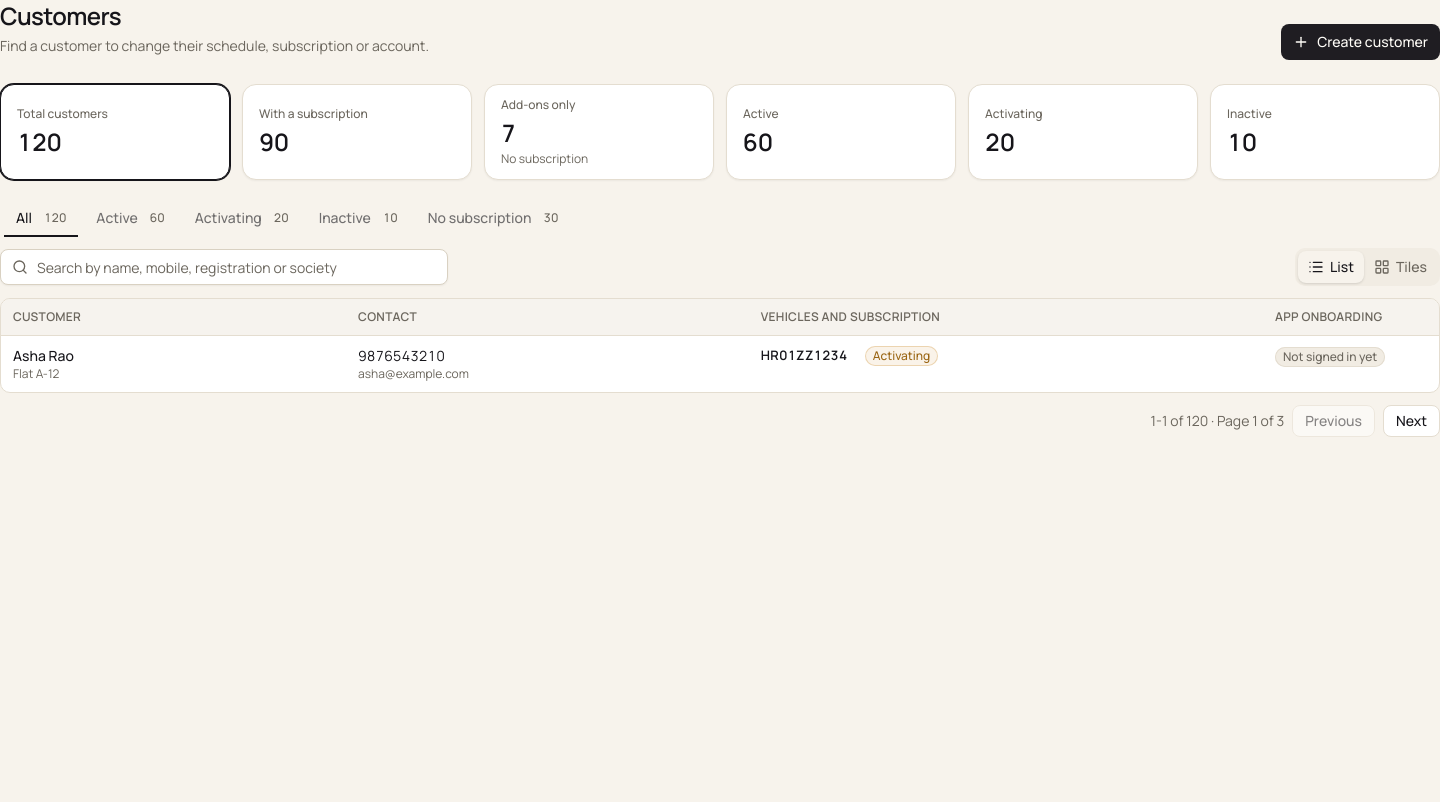
filters from a summary tile with a chip to clear it, and switches to tiles
Click the button with aria-label "Add-ons only: 7": point(599, 132) [484,84,714,180]
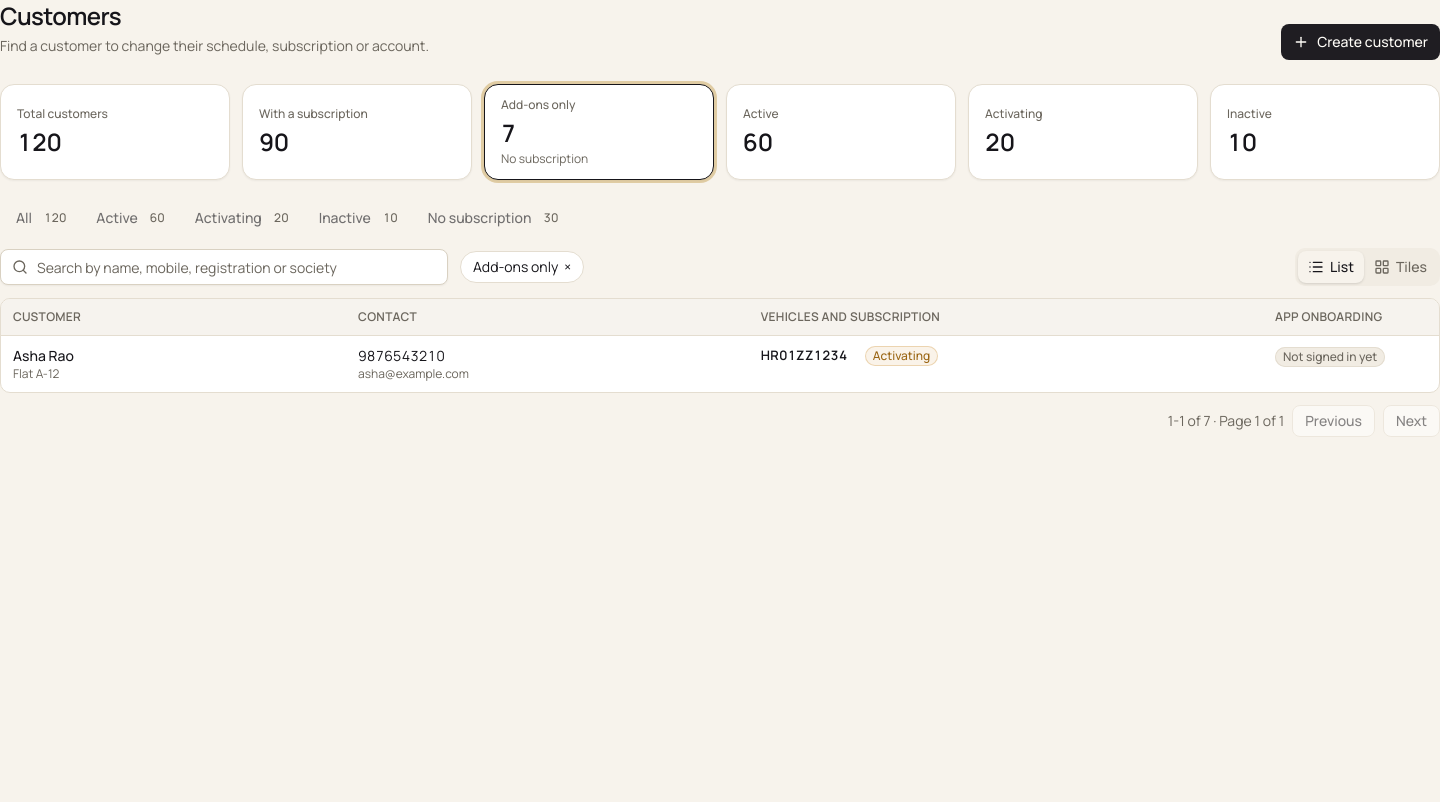
expect the text "1-1 of 7 · Page 1 of 1" is shown: met, box [1168,410,1284,430]
Click the button named "Clear this filter": point(522, 267) [460,251,584,283]
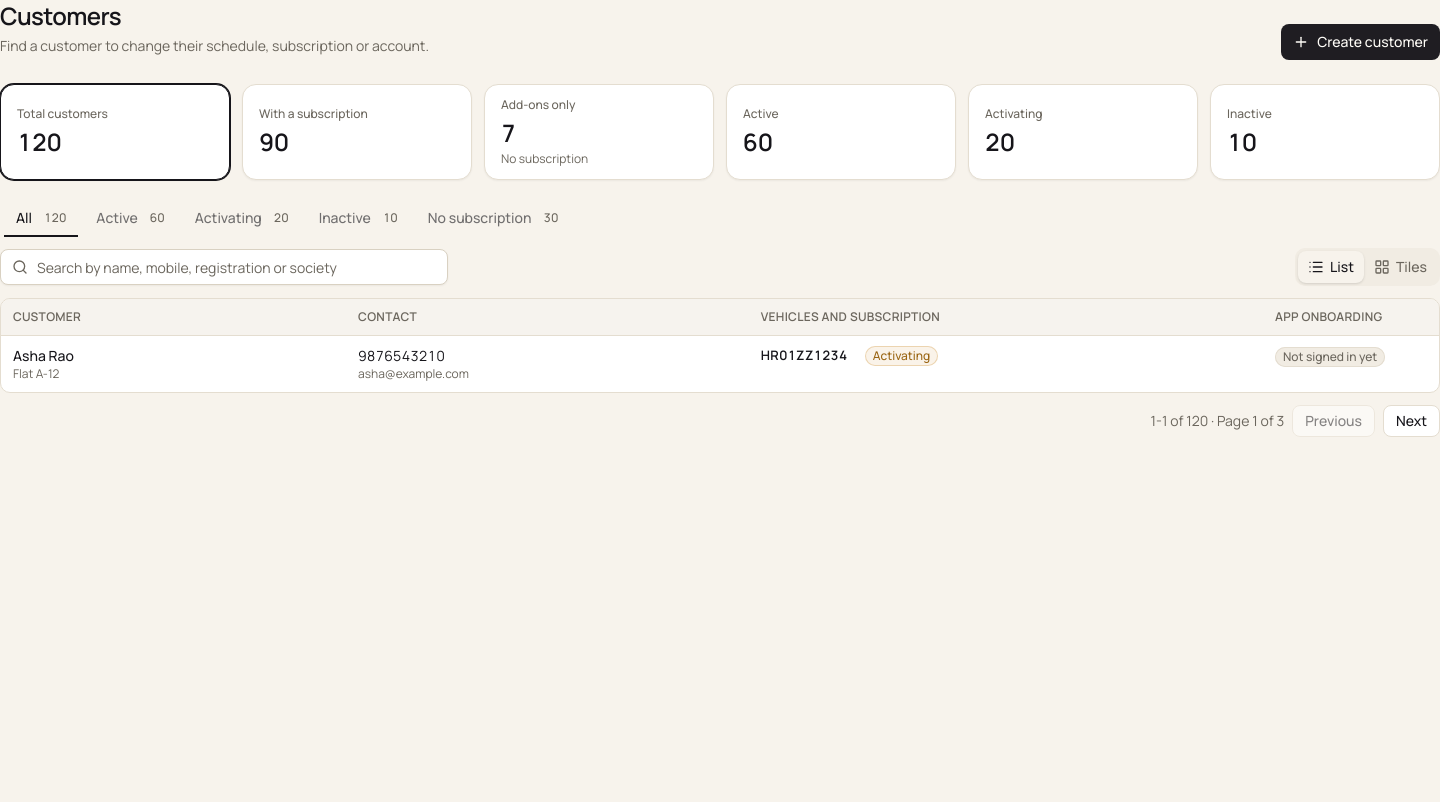
expect the button "Clear this filter" is not shown: met
Click the button with aria-label "Active: 60": point(841, 132) [726,84,956,180]
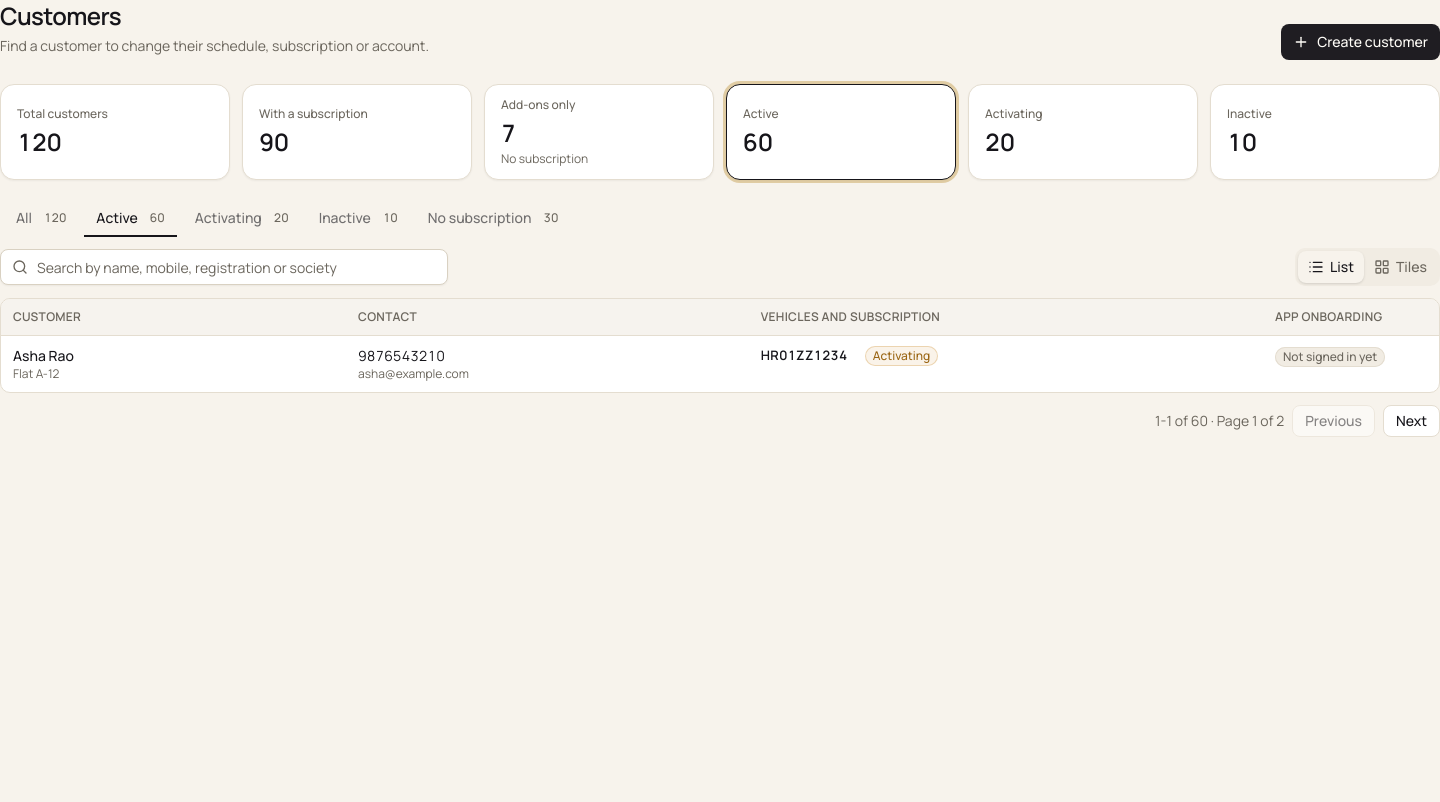
Click the button "Tiles": point(1400, 267) [1364,251,1437,283]
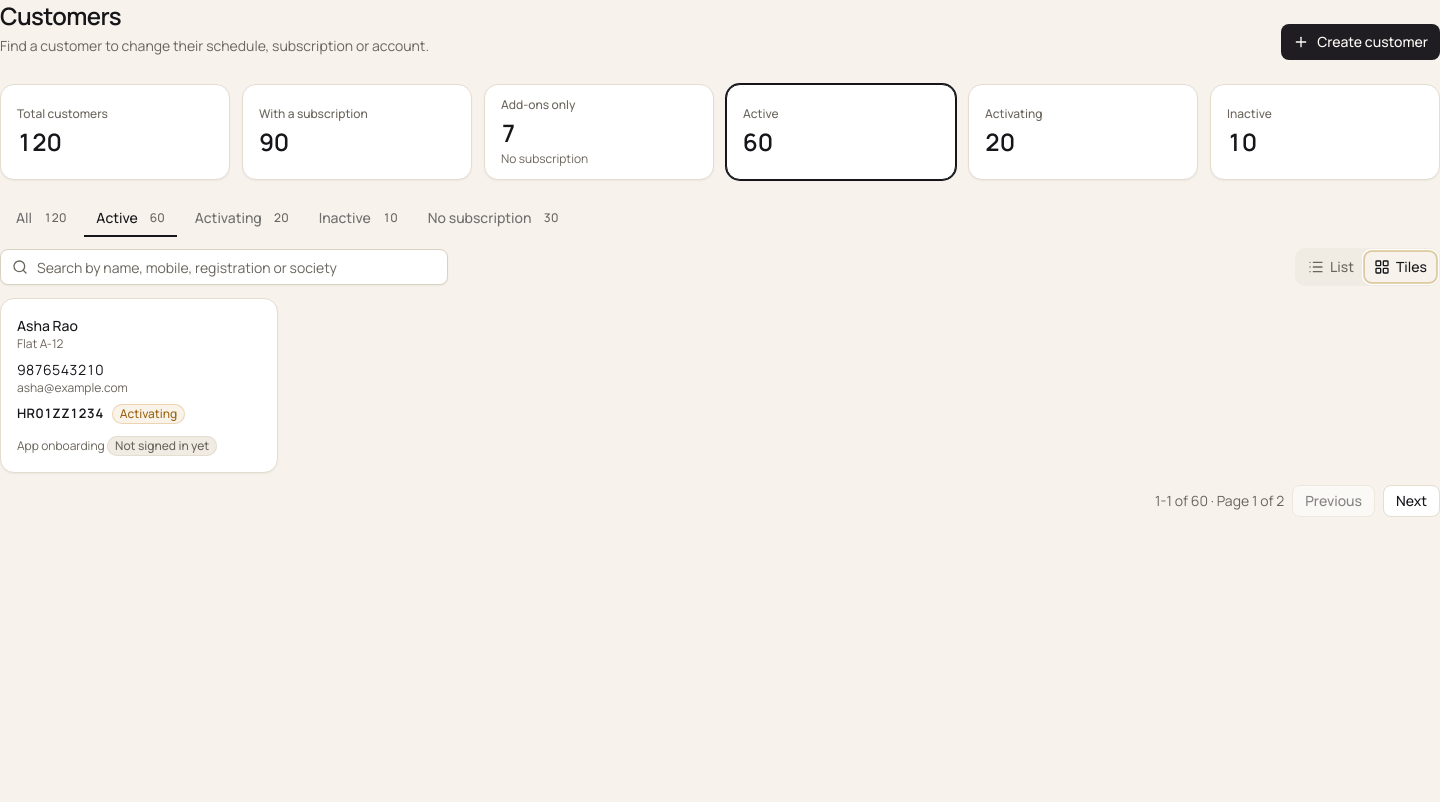
expect the text "Asha Rao" is shown: met, box [17,316,78,335]
expect the table is gone: met
Click the button with aria-label "Open Asha Rao": point(139, 386) [0,298,278,473]
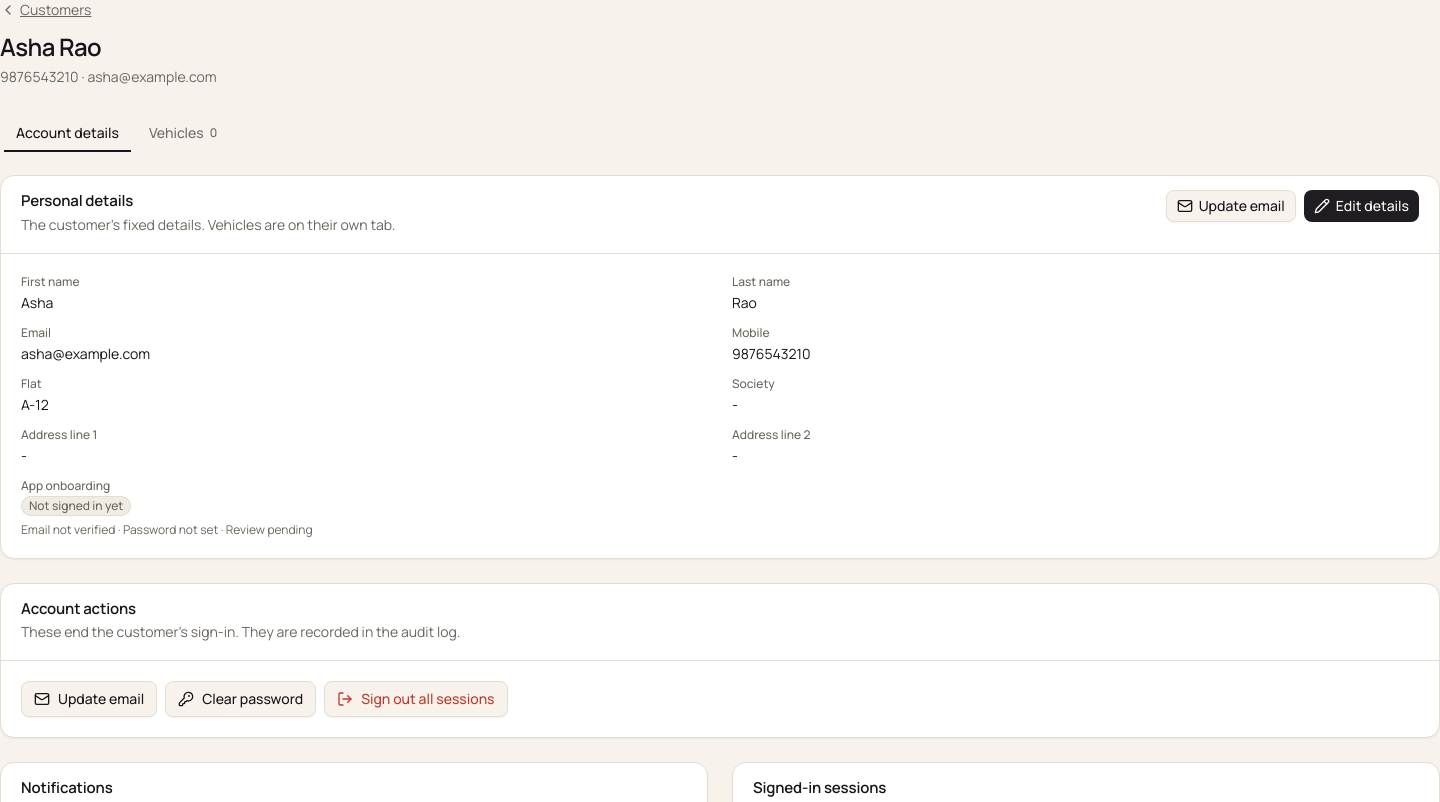
expect the heading "Asha Rao" is shown: met, box [0,30,101,63]
